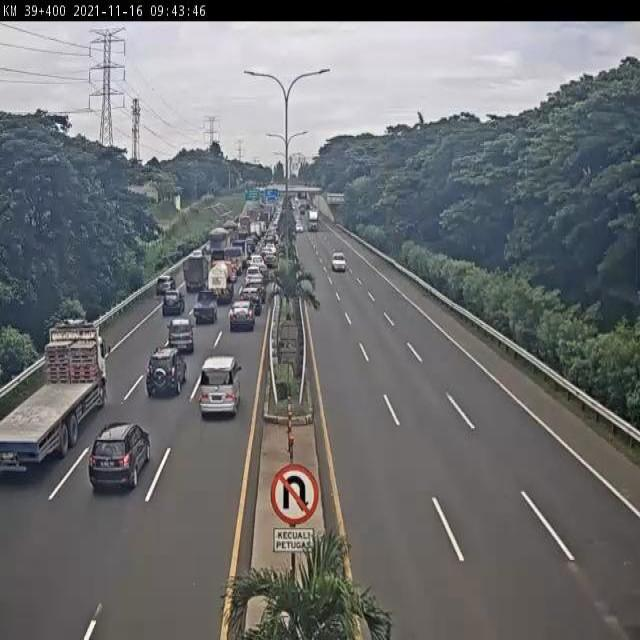car: (82, 424, 147, 495), (199, 356, 242, 419), (146, 346, 188, 398), (167, 324, 196, 363), (228, 302, 255, 338), (191, 292, 217, 327), (159, 293, 183, 319), (240, 288, 262, 315), (150, 279, 171, 301), (246, 279, 266, 300), (246, 265, 264, 284), (248, 254, 264, 266), (295, 220, 302, 229)
small truck: (180, 255, 207, 293), (224, 246, 243, 274)
truck-l-: (0, 311, 108, 464), (306, 208, 316, 227)
truck-m-: (206, 261, 234, 307), (207, 228, 229, 264)
